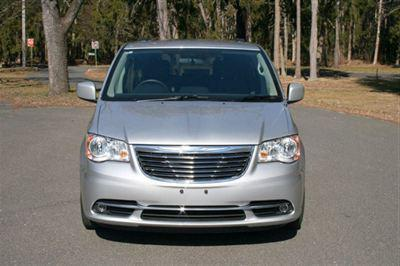Car: (54, 33, 321, 259)
